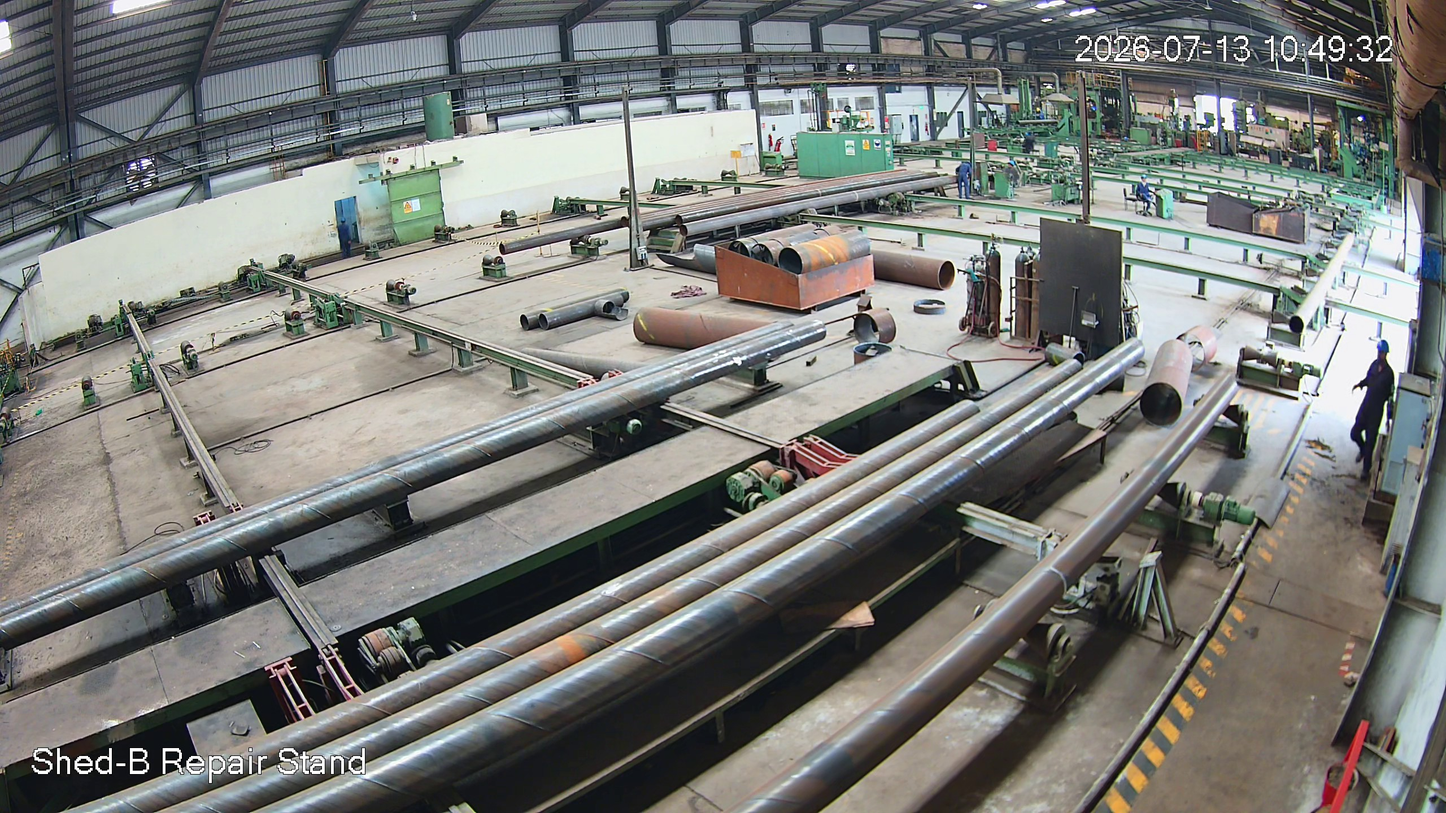Helmet: (1371, 338, 1396, 369)
Person: (1350, 340, 1398, 480)
